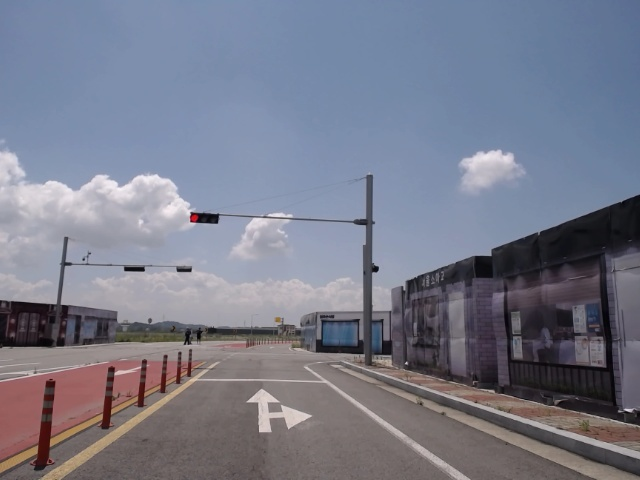red_3: (189, 212, 220, 224)
